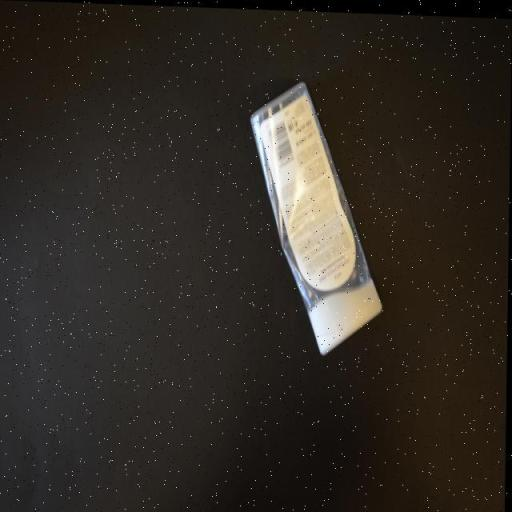plastic: (246, 74, 391, 356)
